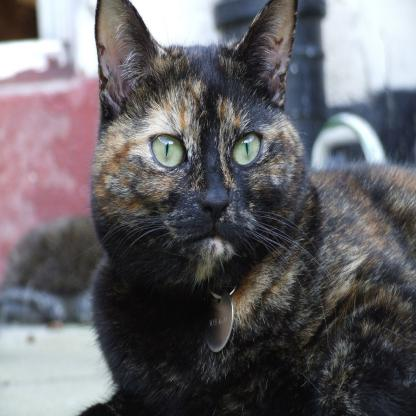cat: (91, 3, 405, 410)
